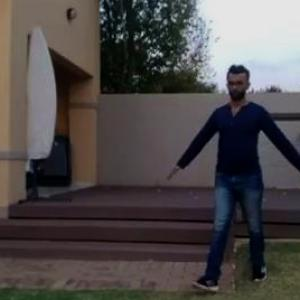land: (164, 64, 299, 292)
